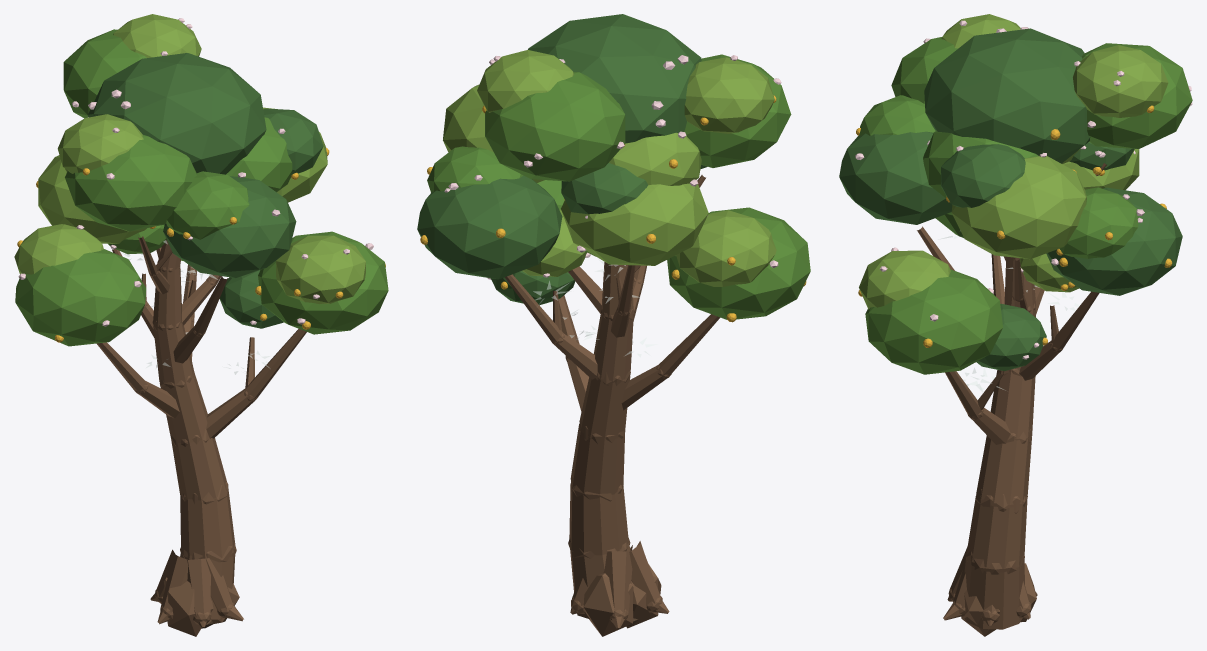
File: tree_09_milestone_2_guldfrugter.glb
The picture shows the model from 3 angles, left to right: view 1: azimuth 30°, elevation 25°; view 2: azimuth 150°, elevation 25°; view 3: azimuth 270°, elevation 25°; orthographic projection. The views are drawn at different scales.
Parts seen in each view (by area): view 1: OR_Tree_leafA, OR_Tree_leafC, OR_Tree_bark, OR_Tree_leafB, OR_Tree_blossom, OR_Tree_gfruit; view 2: OR_Tree_leafB, OR_Tree_leafC, OR_Tree_bark, OR_Tree_leafA, OR_Tree_blossom, OR_Tree_gfruit, OR_Tree_shard; view 3: OR_Tree_leafC, OR_Tree_leafA, OR_Tree_leafB, OR_Tree_bark, OR_Tree_blossom, OR_Tree_gfruit.
Part boxes in pixels (x1,y1,x2,y2): OR_Tree_leafA: (15,29,388,346); OR_Tree_leafC: (88,53,323,328); OR_Tree_bark: (96,236,306,636); OR_Tree_leafB: (14,14,365,304); OR_Tree_blossom: (18,18,373,326); OR_Tree_gfruit: (17,148,385,342); OR_Tree_leafB: (443,50,776,286); OR_Tree_leafC: (417,14,707,305); OR_Tree_bark: (505,175,720,636); OR_Tree_leafA: (427,54,810,319); OR_Tree_blossom: (444,55,781,279); OR_Tree_gfruit: (420,95,806,322); OR_Tree_shard: (533,259,657,357); OR_Tree_leafC: (839,28,1182,371); OR_Tree_leafA: (858,37,1192,374); OR_Tree_leafB: (859,14,1168,309); OR_Tree_bark: (917,163,1106,636); OR_Tree_blossom: (855,20,1192,359); OR_Tree_gfruit: (856,105,1172,347).
Size of the model in its own units: 16.49 by 26.66 by 14.68.
